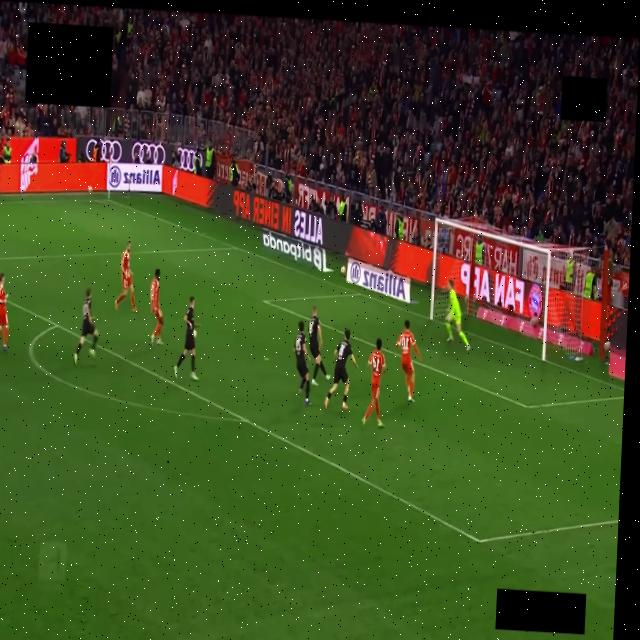ball: (193, 330, 196, 338)
player: (324, 329, 357, 409), (361, 338, 385, 428), (395, 321, 420, 401), (174, 297, 198, 380), (73, 288, 97, 364), (445, 279, 469, 350), (308, 307, 329, 386), (115, 241, 137, 312), (293, 322, 309, 404), (150, 269, 162, 345), (0, 273, 8, 351)
